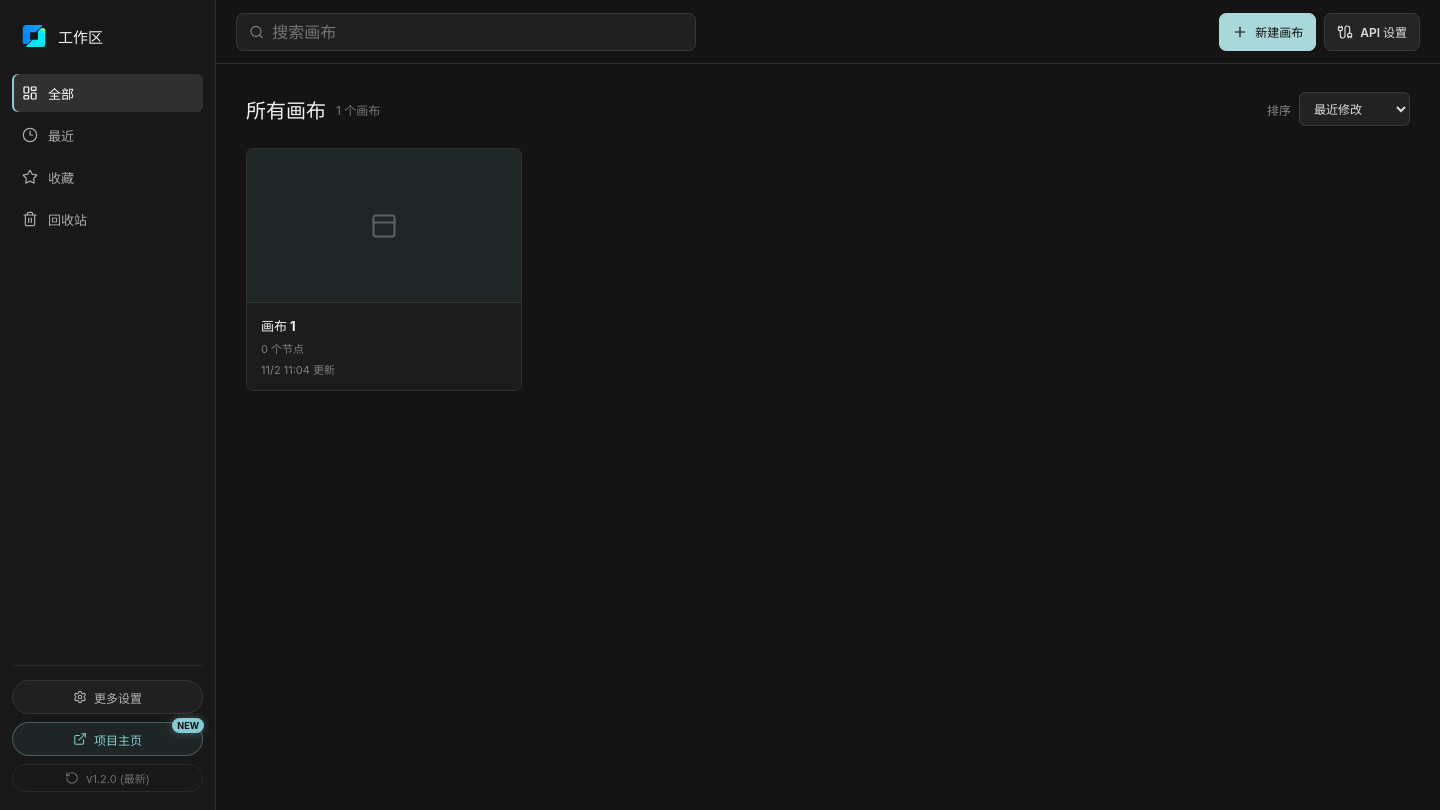
Scenario: application workspace routing › creates and opens an independent canvas from the home
Click the button "新建画布" at (1268, 32), box [1219,12,1316,50]
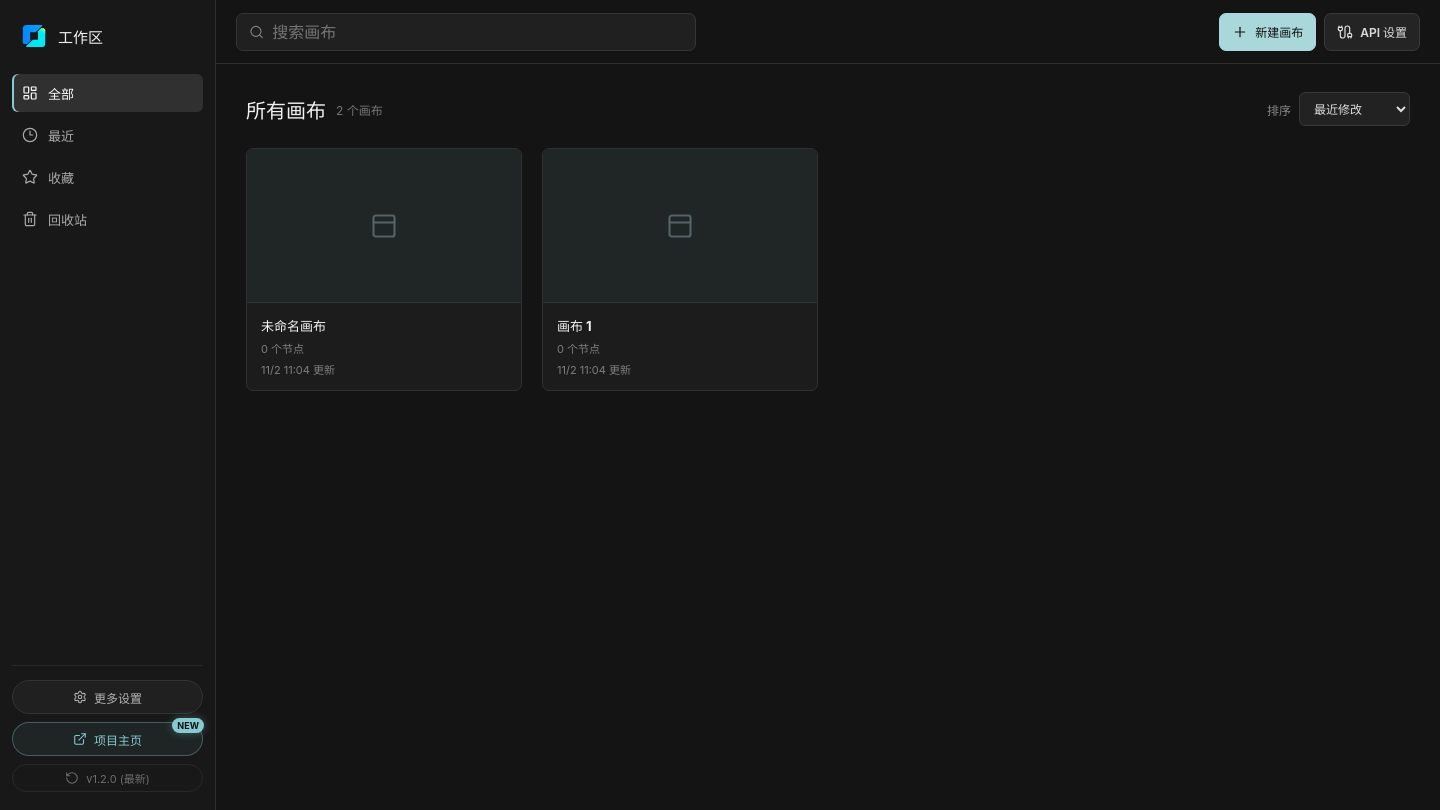
Check: the button "未命名画布 0 个节点 11/2 11:04 更新" is shown
Click the button "未命名画布 0 个节点 11/2 11:04 更新" at (384, 270), box [247,149,521,390]
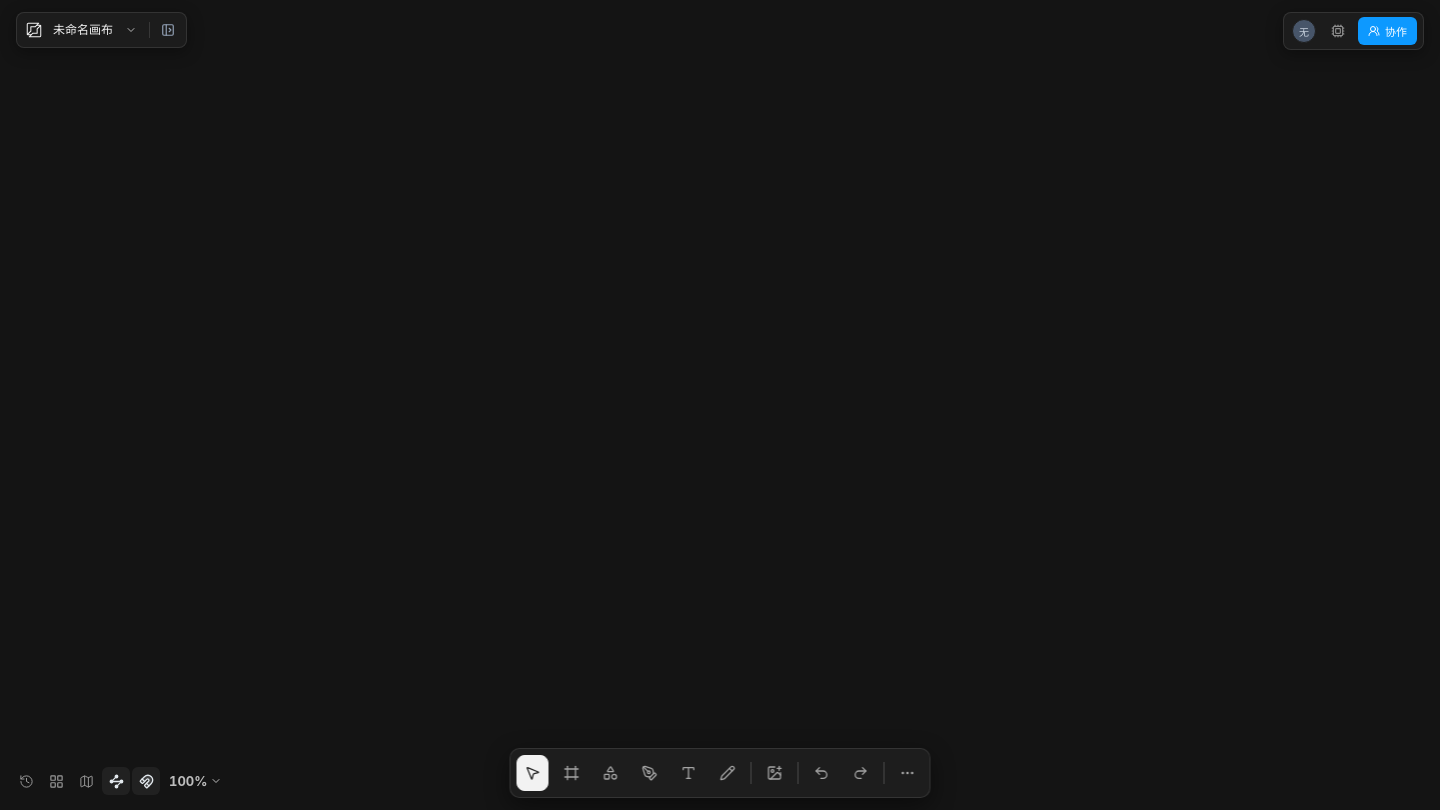
Check: the button "未命名画布" is shown, box [17,13,145,47]
Check: the element with test id "canvas-workspace" is shown
